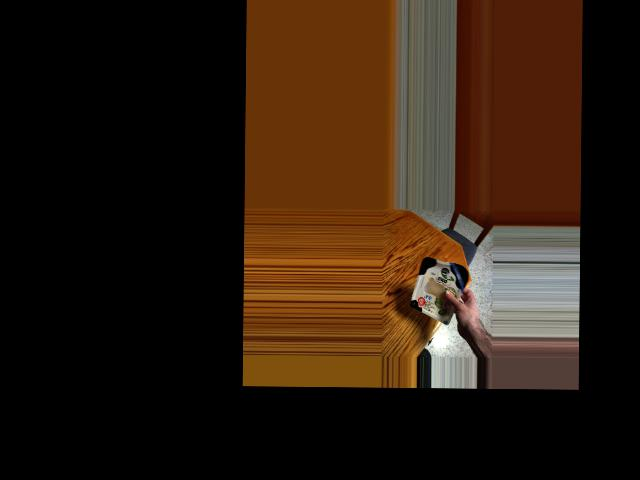cheese: (411, 255, 470, 314)
